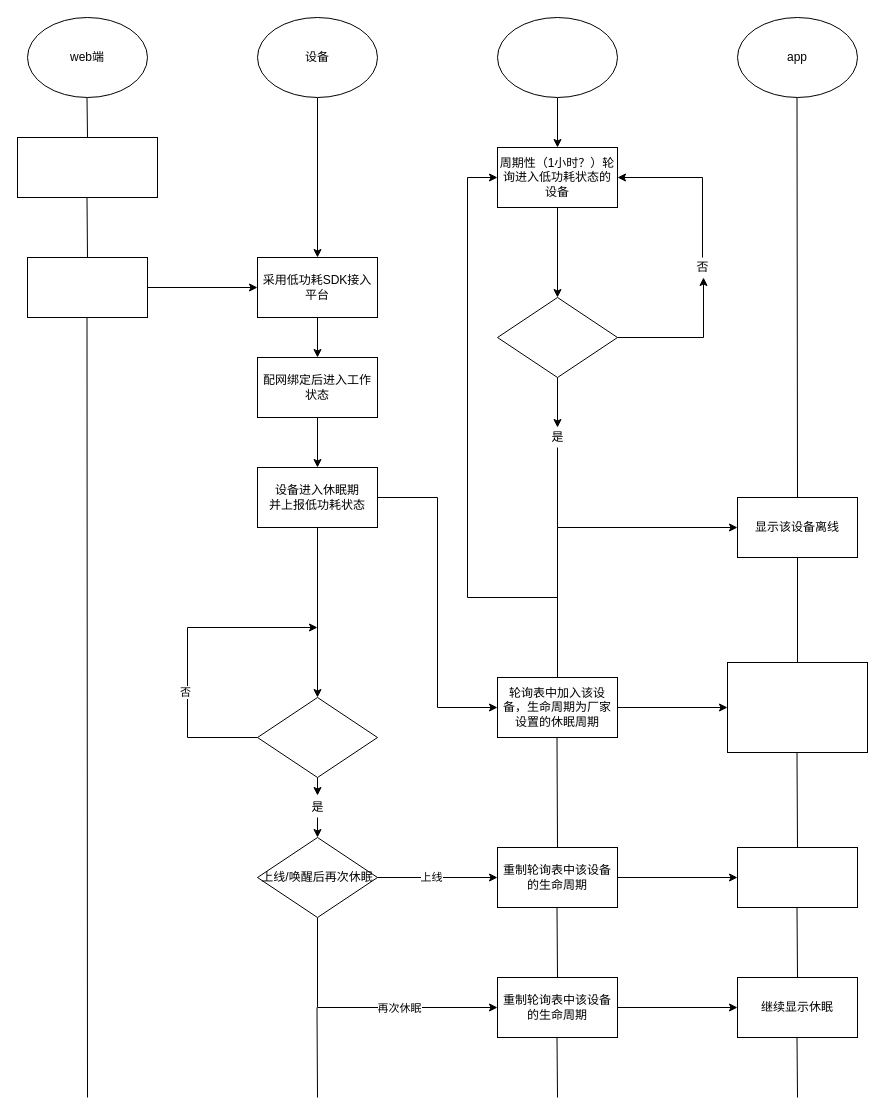
This 885x1116 diagram has some shape labels left out. The shapes that lost their labels are listed below. From the top down, each one's centre as x and y in pixels, then its label:
At (557,57): "平台".
At (87,167): "创建低功耗产品 并设置休眠周期 （厂家通过web端操作）".
At (87,287): "下载SDK".
At (557,337): "是否有设备生命周期结束".
At (797,707): "显示该设备进入低功耗状态，并提示用户无法通过模版进行控制，如需控制需要手动唤醒设备".
At (317,737): "休眠周期内唤醒 （手动/自动）".
At (797,877): "显示该设备上线".
